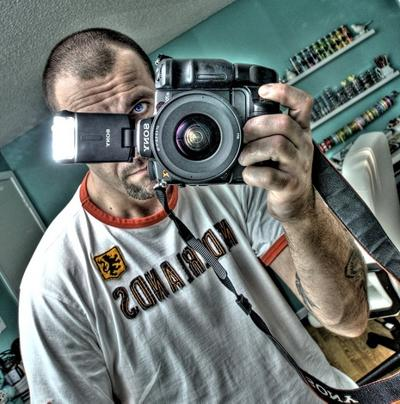person: (18, 27, 372, 404)
